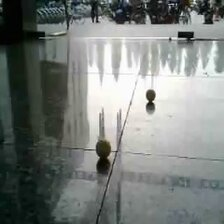w: (95, 139, 112, 159), (145, 88, 157, 102)
